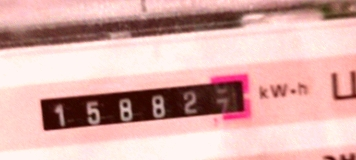1: (50, 103, 66, 129)
2: (179, 90, 196, 115)
5: (82, 99, 100, 126)
7: (213, 95, 229, 115)
8: (115, 97, 133, 125), (148, 94, 165, 120)
screen: (22, 66, 260, 148)
